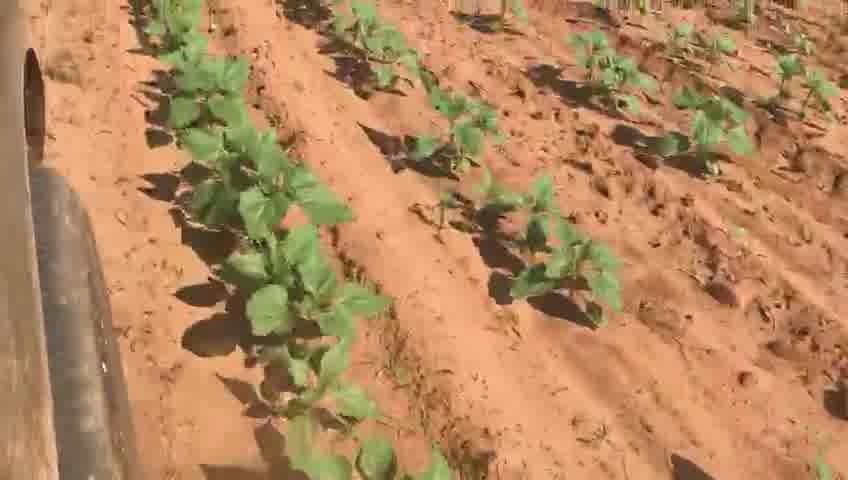sunflower: (205, 225, 398, 350), (161, 123, 354, 237), (223, 402, 465, 477), (506, 230, 622, 333), (238, 339, 381, 419), (661, 88, 755, 173), (570, 32, 659, 119), (153, 54, 250, 133), (408, 94, 503, 174), (347, 12, 425, 103), (467, 168, 555, 247), (773, 51, 836, 117), (149, 4, 213, 59)
